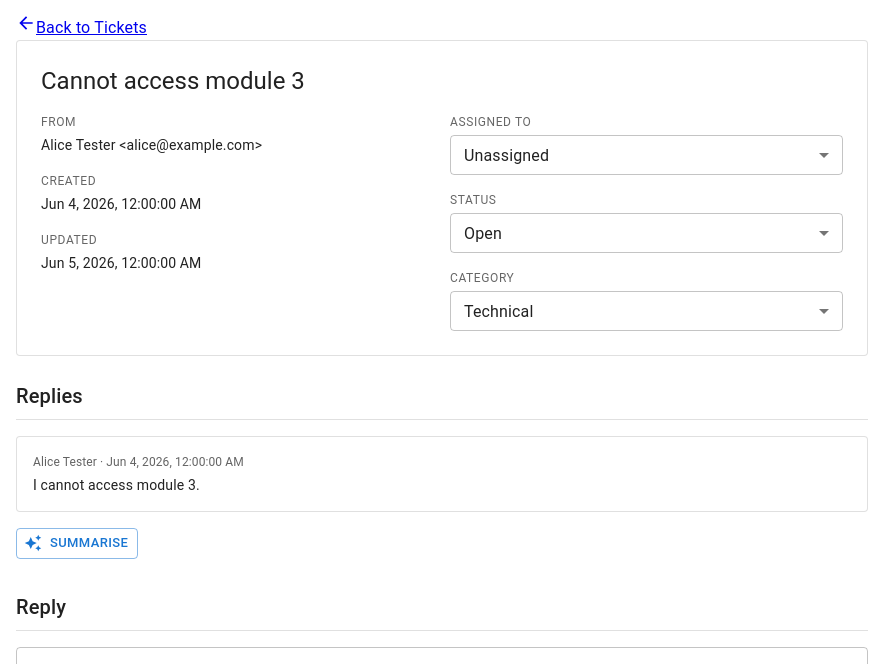
Test: TicketDetailPage › agent assignment › lists all available agents in the dropdown
The width and height of the screenshot is (885, 664).
Expected: the heading "Cannot access module 3" is shown, [41,67,305,95]
Click the dropdown named "Assigned to" at (507, 155), box [464,146,549,164]
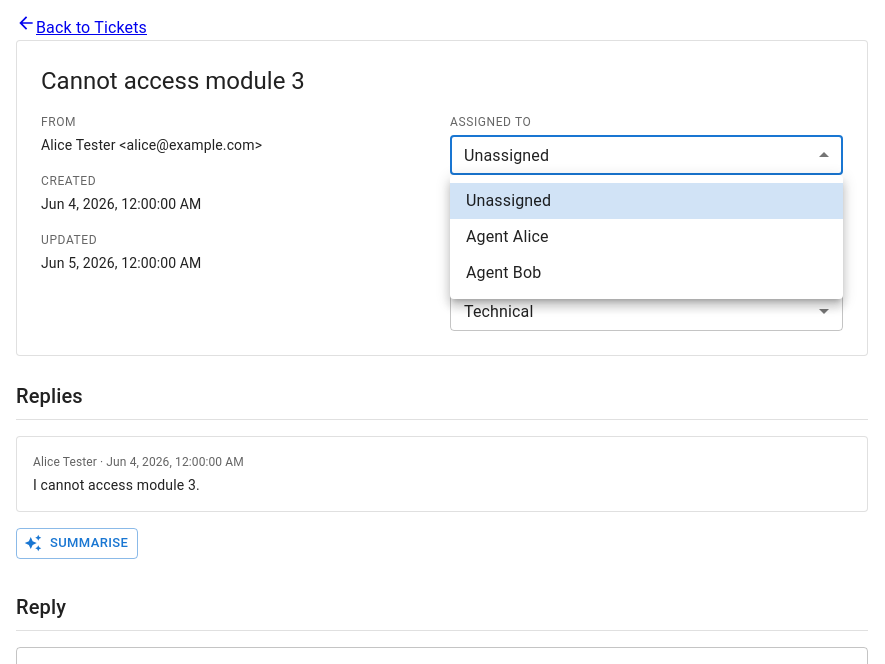
Expected: the option "Unassigned" is shown, [450,183,843,219]
Expected: the option "Agent Alice" is shown, [466,227,549,246]
Expected: the option "Agent Bob" is shown, [466,263,541,282]
